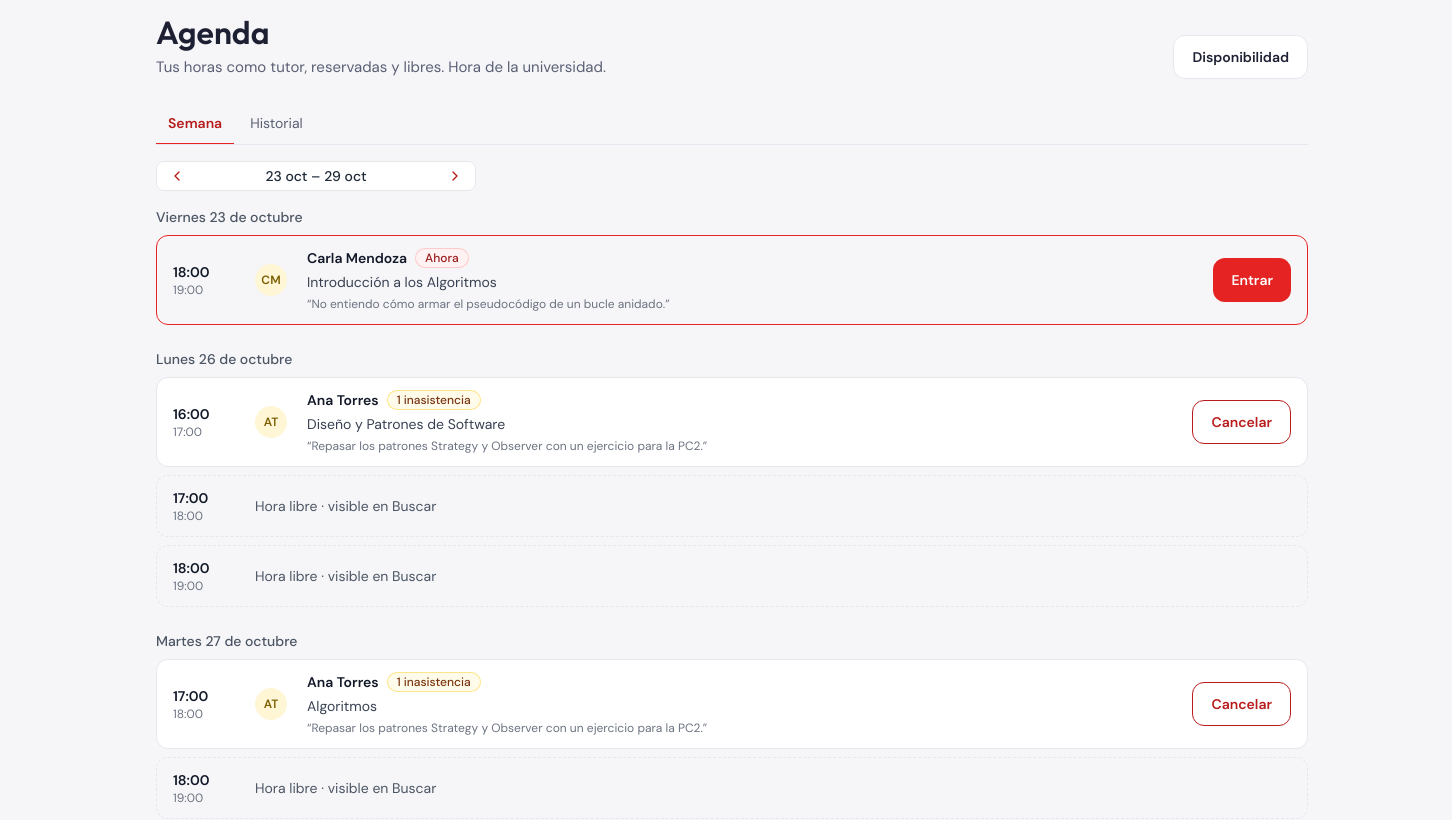
Test: FE-41 tutor agenda › pages through the tutor history
Step 1. Click the tab "Historial" → (276, 124), box [238, 102, 315, 144]
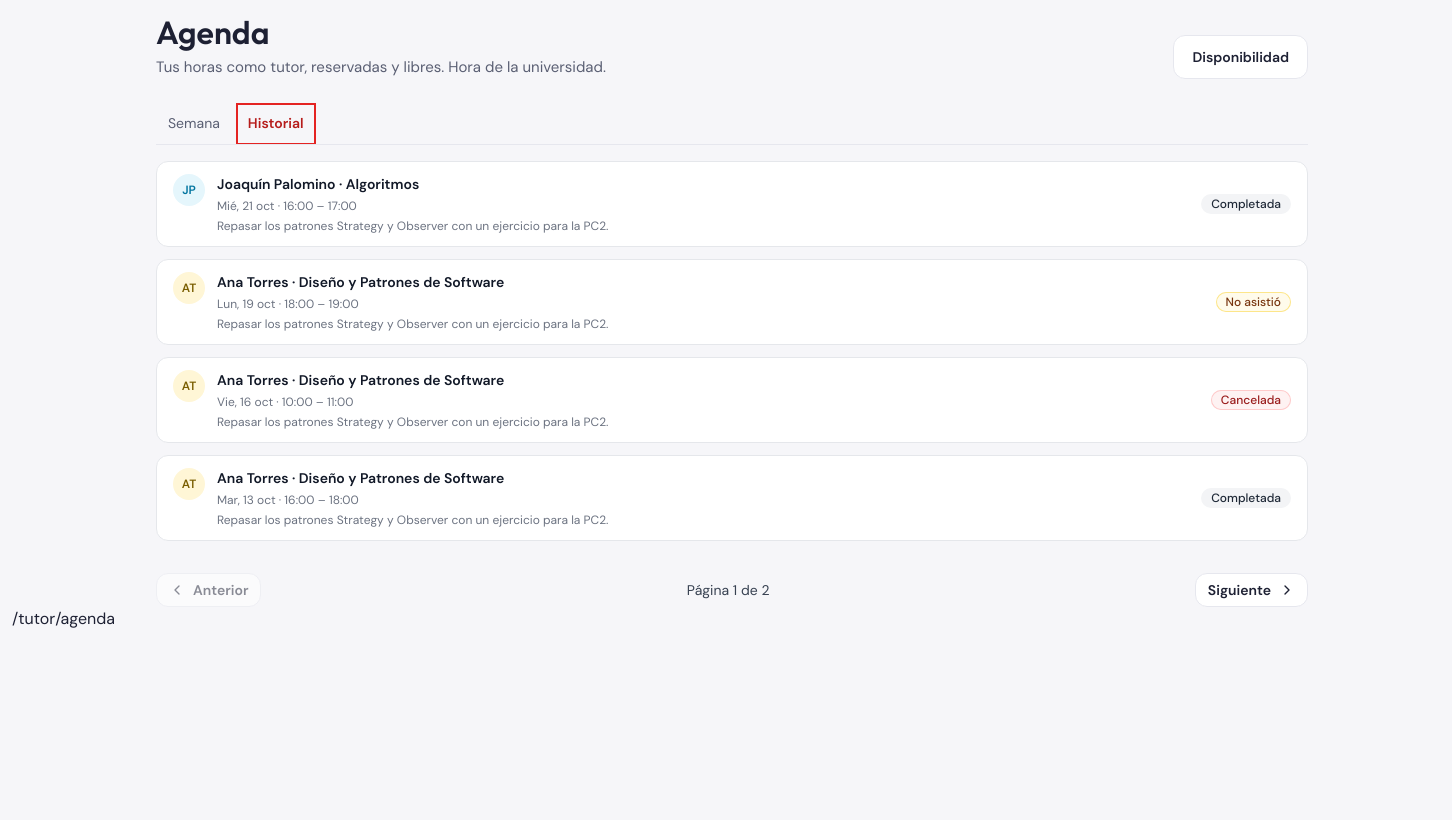
Expected: the text "Joaquín Palomino · Algoritmos" is shown, [217, 174, 419, 192]
Expected: the text "Completada" is shown 2 times, [1201, 194, 1291, 214]; [1201, 488, 1291, 508]
Expected: the text "No asistió" is shown, [1216, 292, 1291, 312]
Step 2. Click the button "Siguiente" → (1251, 590), box [1195, 572, 1308, 606]
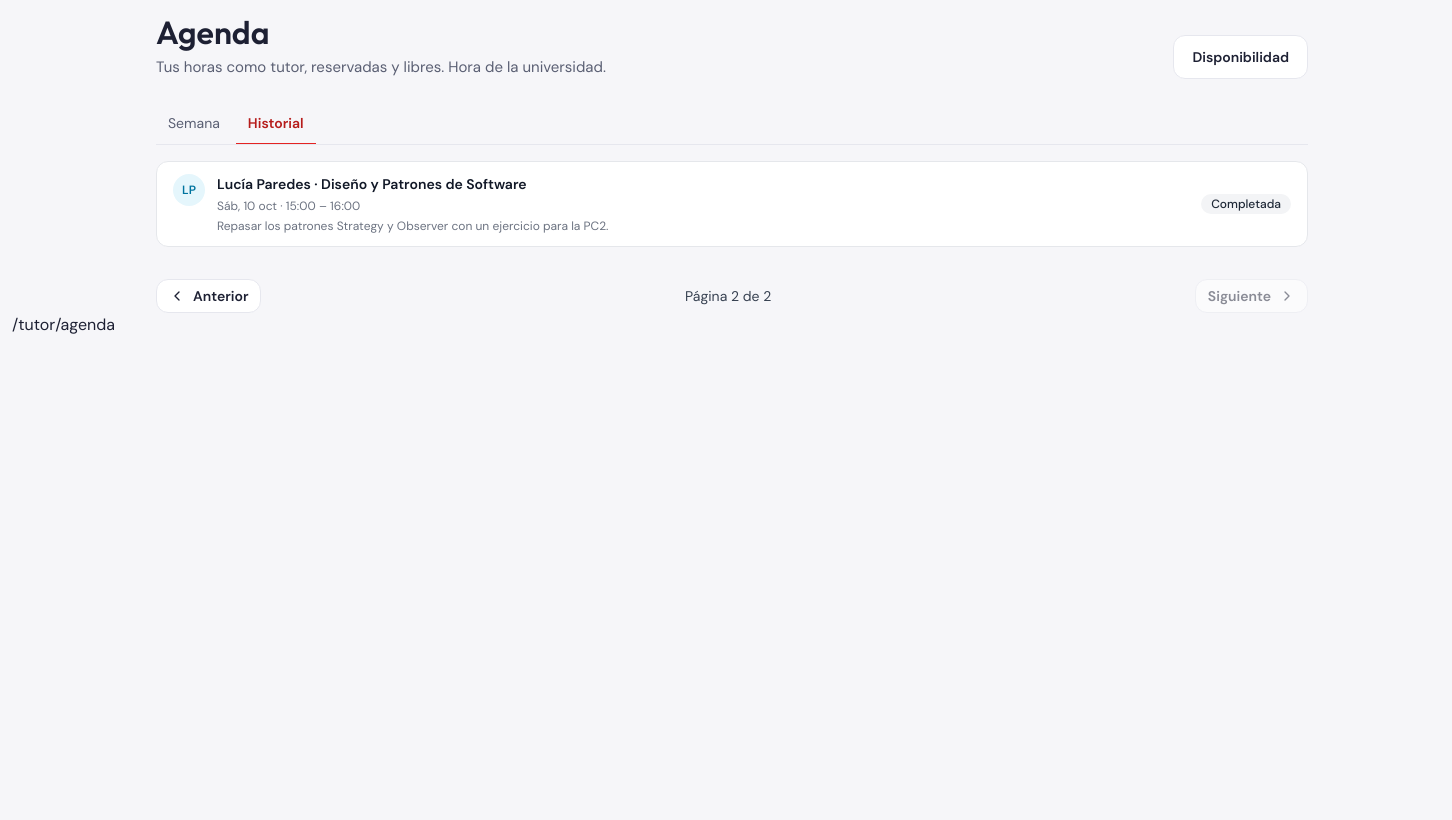
Expected: the text "Lucía Paredes · Diseño y Patrones de Software" is shown, [217, 174, 527, 192]
Expected: the text "Página 2 de 2" is shown, [685, 286, 771, 306]
